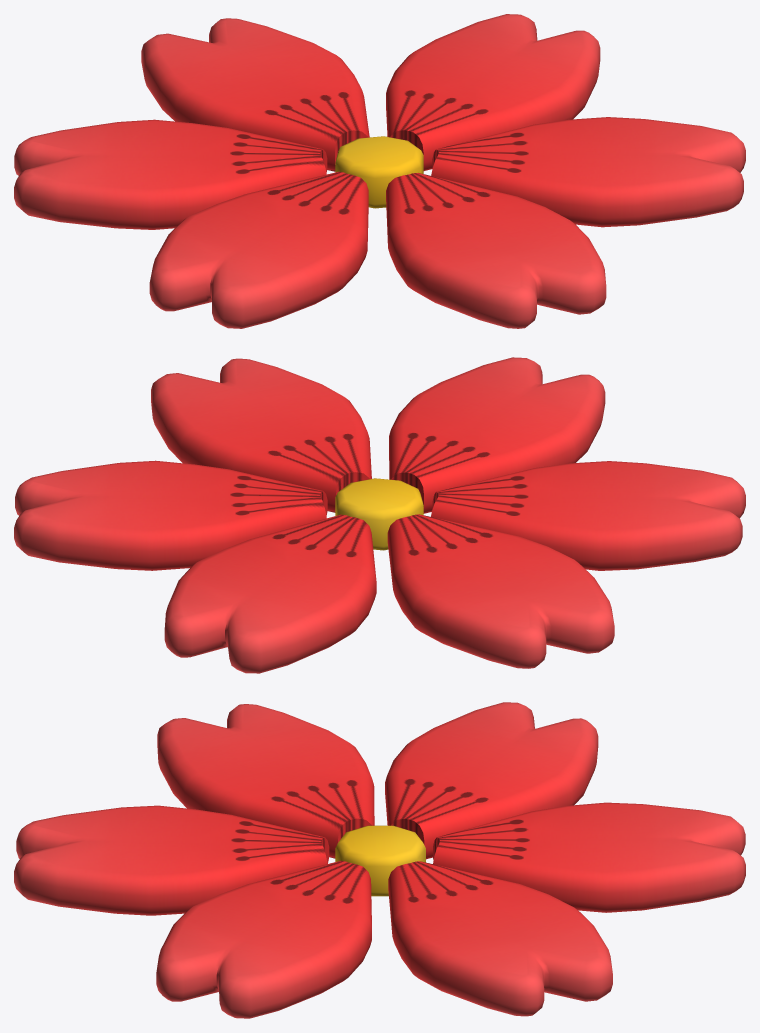
Rendered from New flower thick 2.fbx.
3 views of the same model, one above another, from view 1: azimuth 30°, elevation 25°; view 2: azimuth 150°, elevation 25°; view 3: azimuth 270°, elevation 25° (orthographic).
Parts seen in each view (by area): view 1: Cylinder.017; view 2: Cylinder.017; view 3: Cylinder.017.
Boxes of the visible parts, bbox=[...] form: Cylinder.017: bbox=[14, 14, 745, 328]; Cylinder.017: bbox=[14, 357, 745, 673]; Cylinder.017: bbox=[14, 702, 745, 1018].
Bounding box in the file's own units: 29.08 × 1.92 × 31.25.
